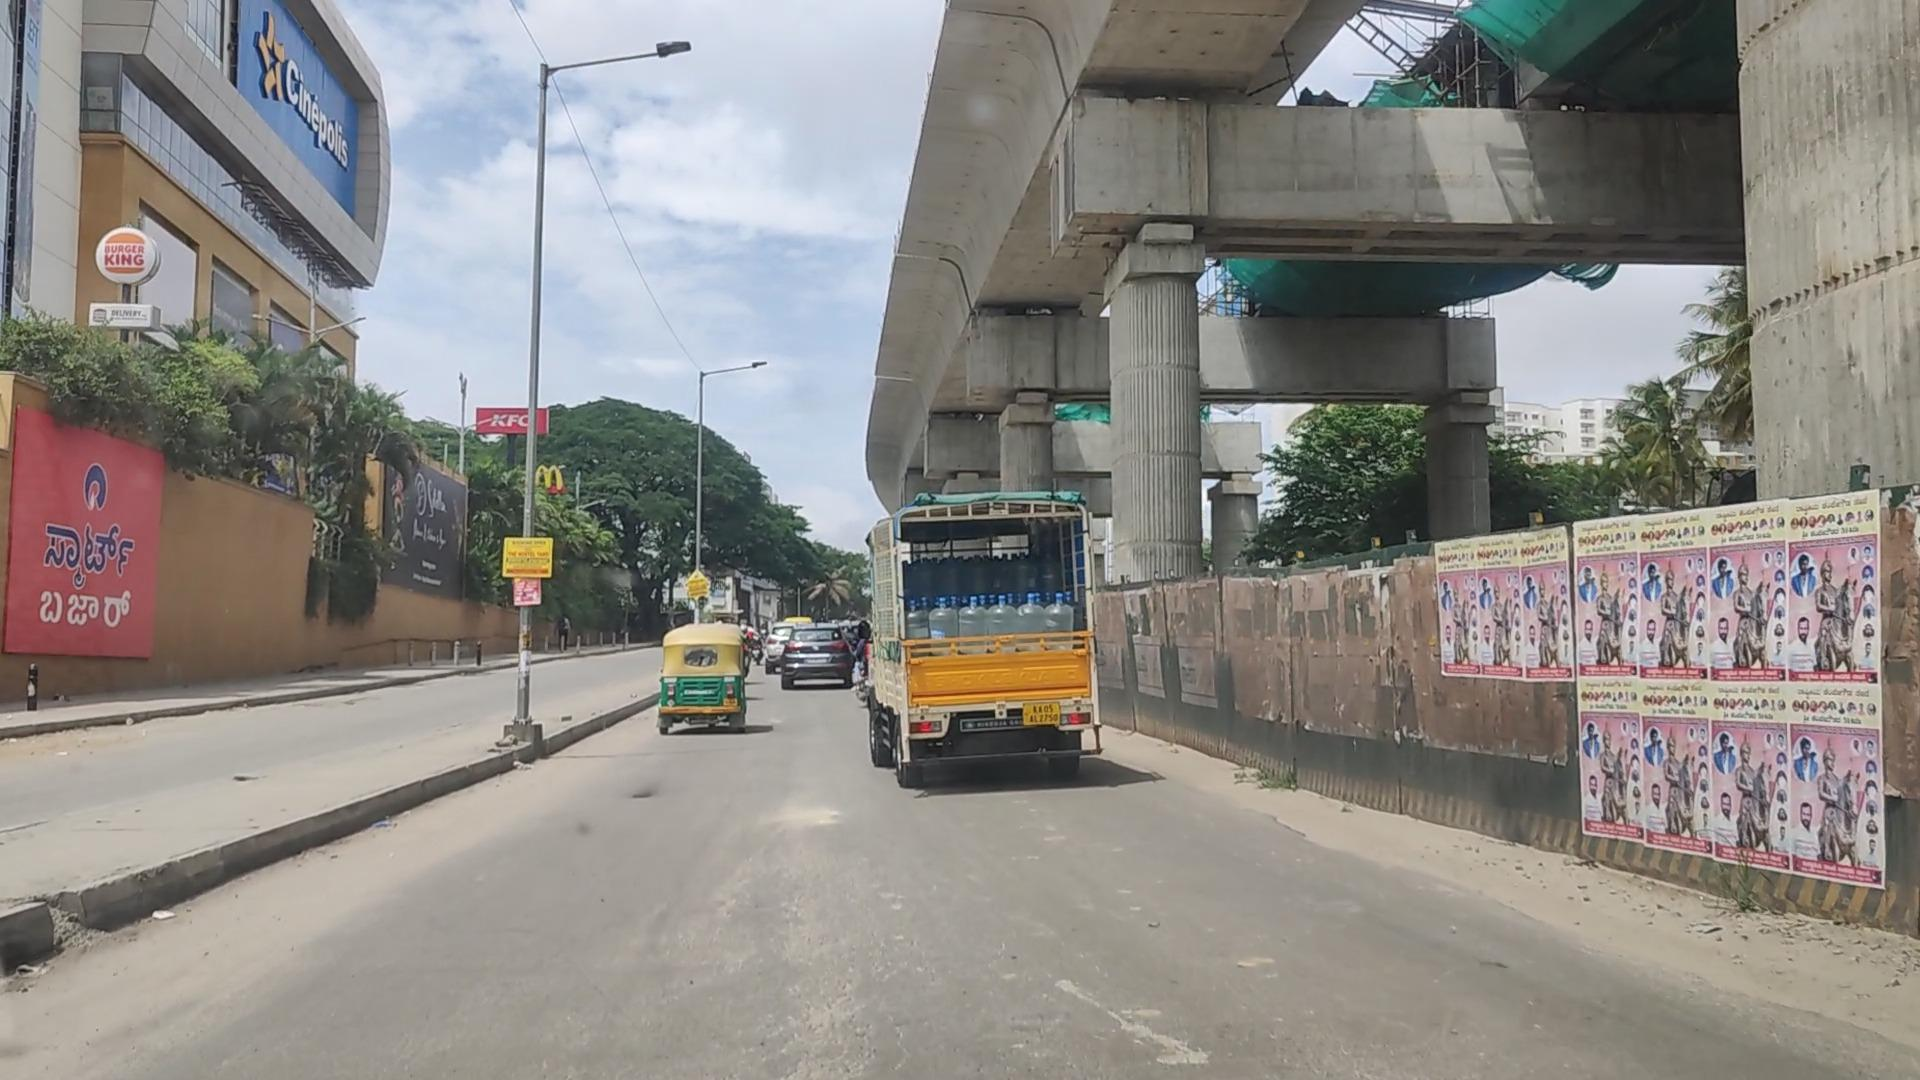HMV: (877, 480, 1155, 806)
LMV: (649, 630, 746, 741)
RoadDamages: (1051, 955, 1228, 1080)
